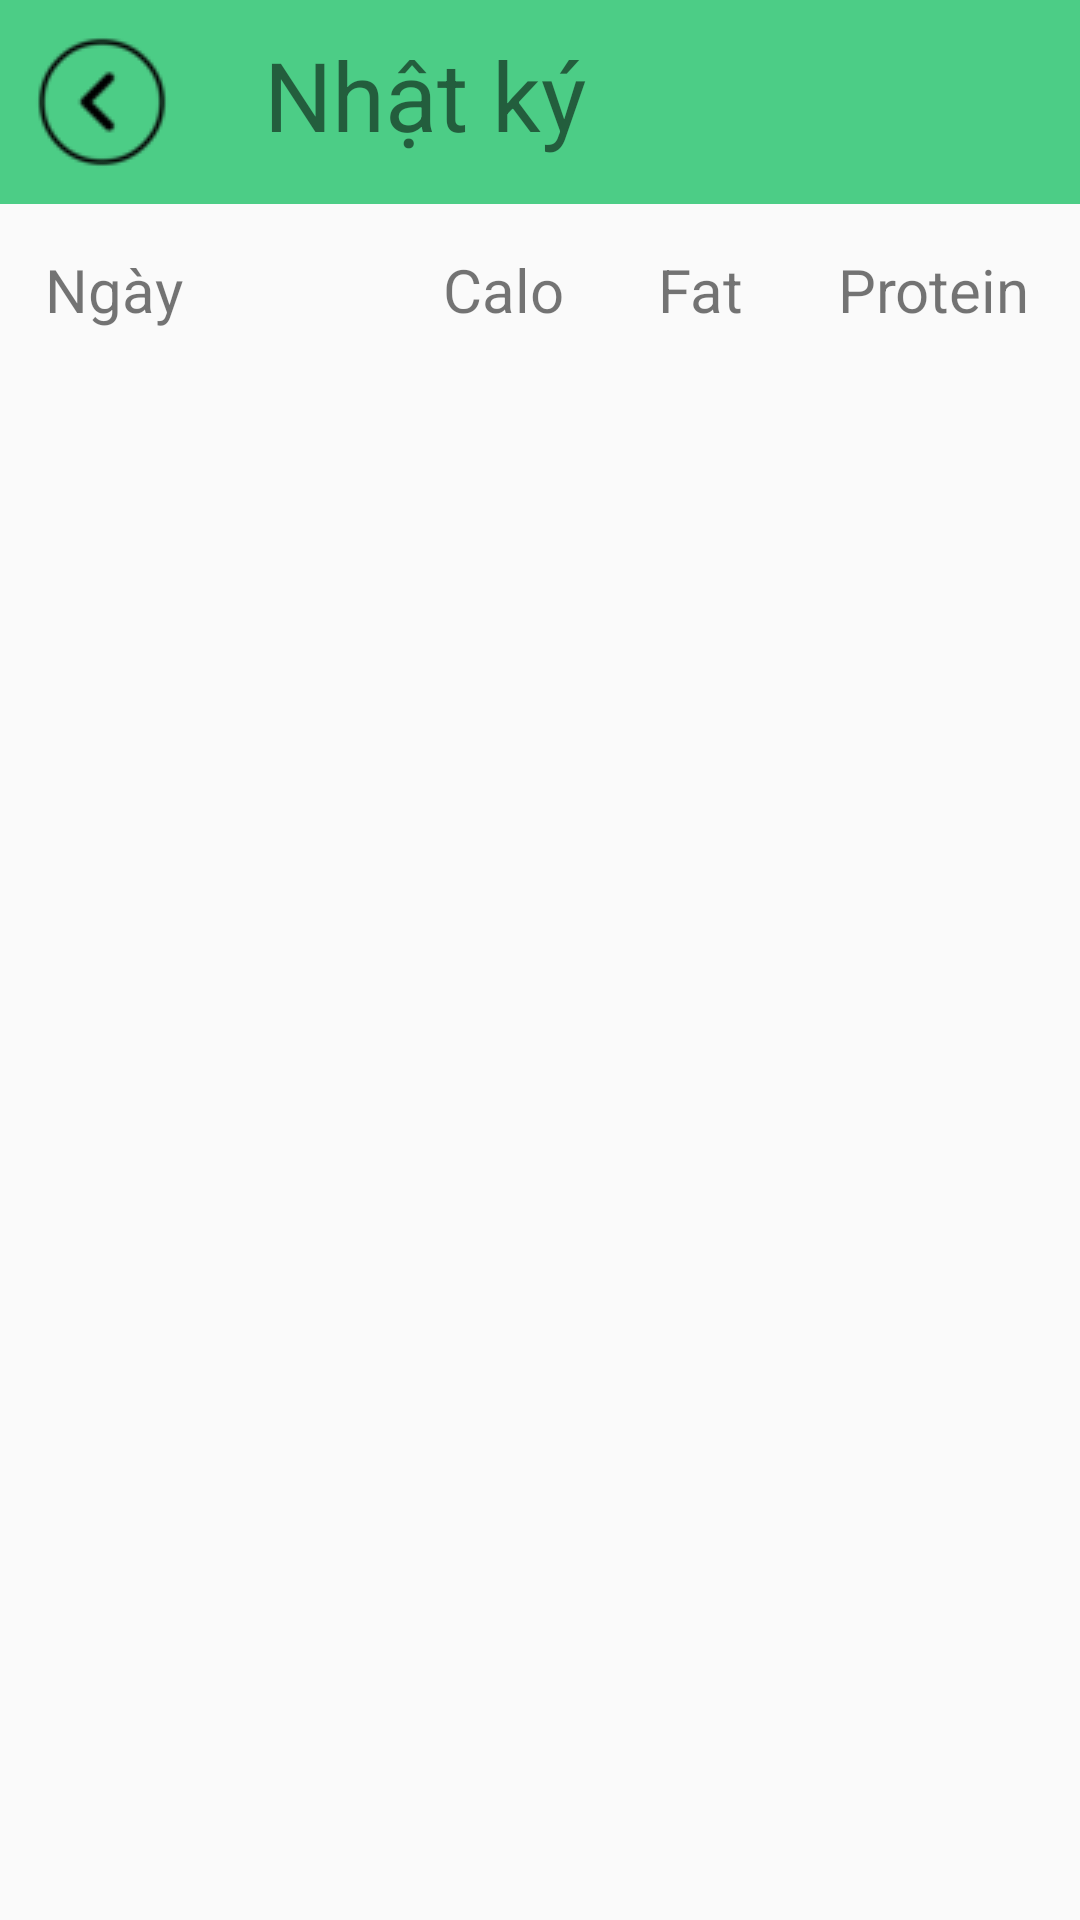

Icons on this 1080w x 1920h Android screen, each with its box as (x1, y1, x2, y2):
back: (38, 38, 166, 166)
